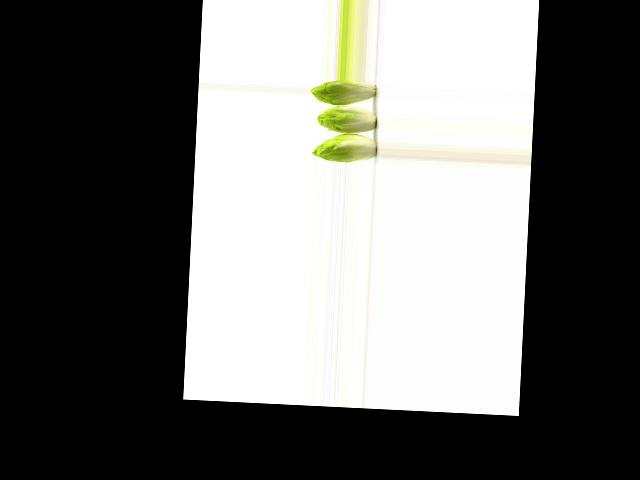lettuce: (311, 132, 380, 164)
